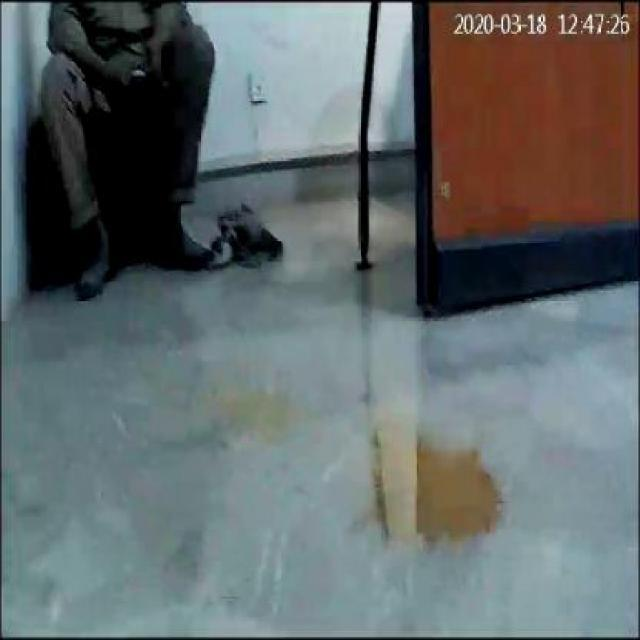spill: (359, 422, 512, 548)
